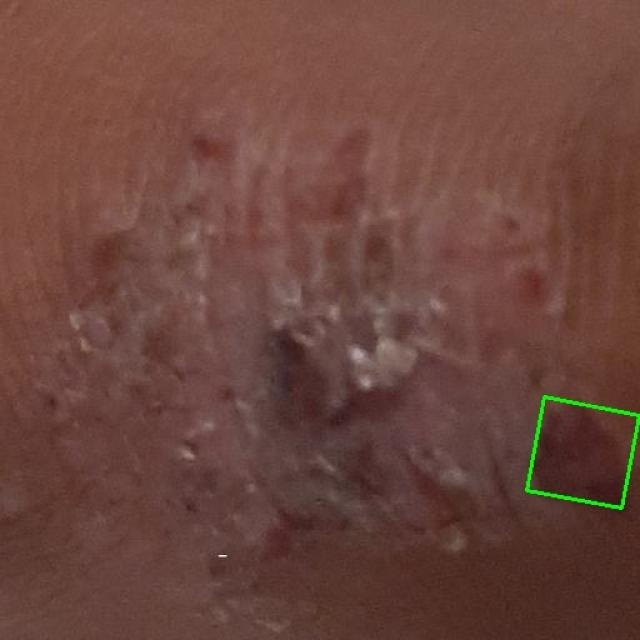Contact Dermatitis: (527, 397, 639, 508)
